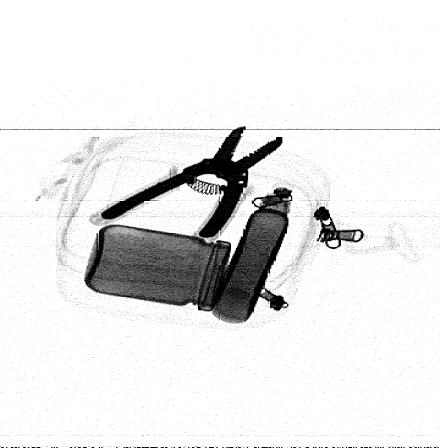Pliers: (100, 125, 283, 242)
